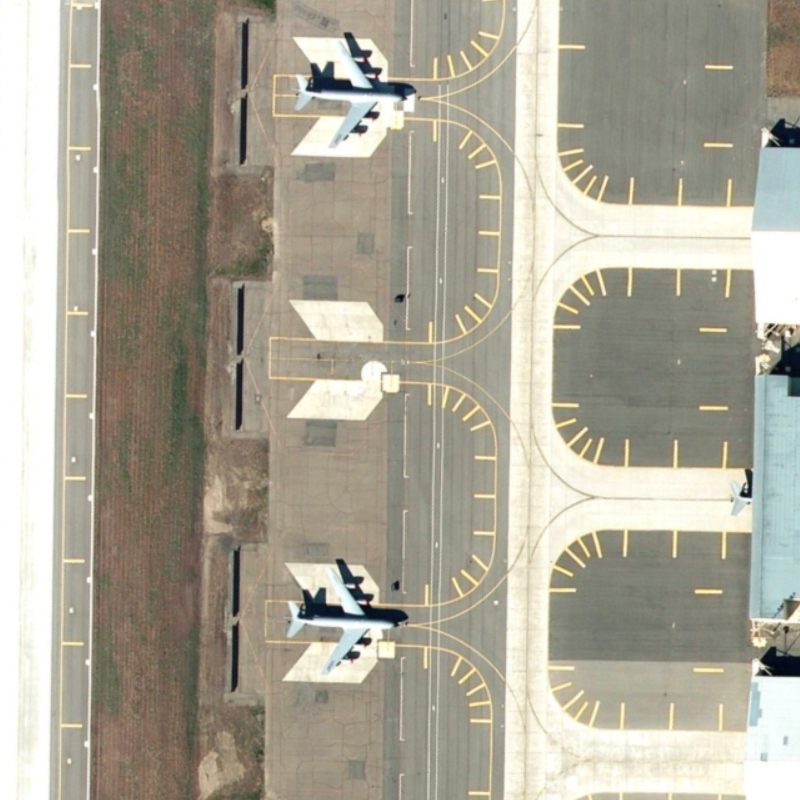A11: (289, 28, 414, 155), (281, 553, 404, 675)
